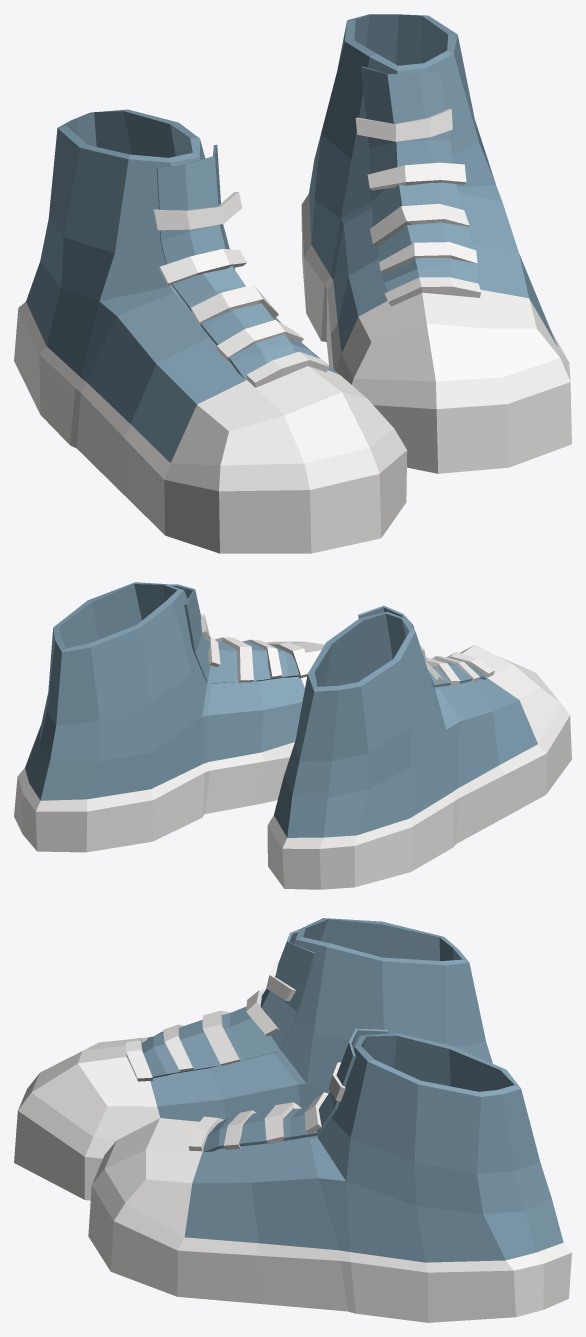
The model's file is Shoes_1.fbx.
3 renders of one model, top to bottom at view 1: azimuth 30°, elevation 25°; view 2: azimuth 150°, elevation 25°; view 3: azimuth 270°, elevation 25°, orthographic. The views are drawn at different scales.
Visible parts, largest first — view 1: Shoes_1; view 2: Shoes_1; view 3: Shoes_1.
Boxes of the visible parts, x1,y1,x2,y2 form: Shoes_1: [14, 14, 571, 553]; Shoes_1: [14, 582, 571, 889]; Shoes_1: [14, 918, 571, 1322].
Bounding box in the file's own units: 46.82 × 54.47 × 26.27.
